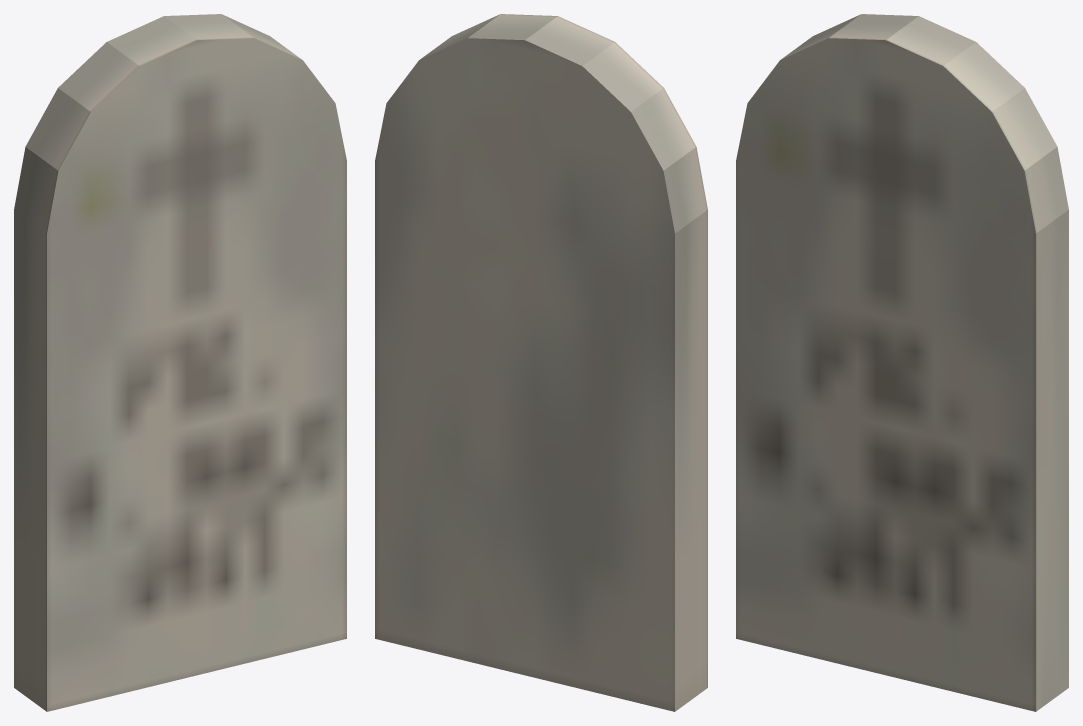
Rendered from headstone_military.obj.
The picture shows the model from 3 angles, left to right: view 1: azimuth 30°, elevation 25°; view 2: azimuth 150°, elevation 25°; view 3: azimuth 330°, elevation 25°; orthographic projection.
Visible parts, largest first — view 1: headstone_military; view 2: headstone_military; view 3: headstone_military.
Part boxes in pixels (x1,y1,x2,y2): headstone_military: [14, 14, 346, 711]; headstone_military: [375, 14, 707, 711]; headstone_military: [736, 14, 1068, 711].
Bounding box in the file's own units: 0.42 × 0.85 × 0.08.
Materials: 1 (1 with a texture image).
